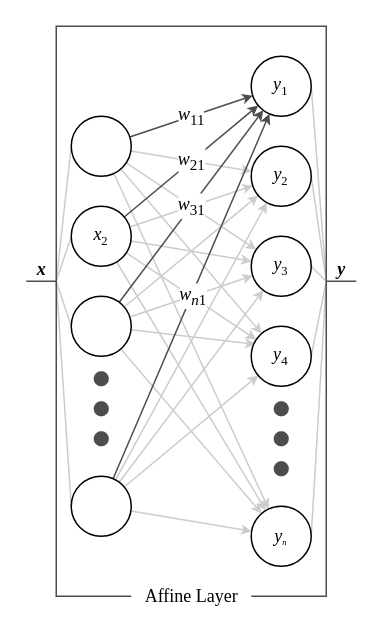
Image size: 384x638. Some labels were removed from this diagram. The shapes that lost their labels are listed below. From the top down, each one's box as (x1, y1, x2, y2) in pixels, then its label:
(70, 115, 131, 176): x 1
(70, 295, 131, 356): x 3
(70, 475, 131, 536): x m
